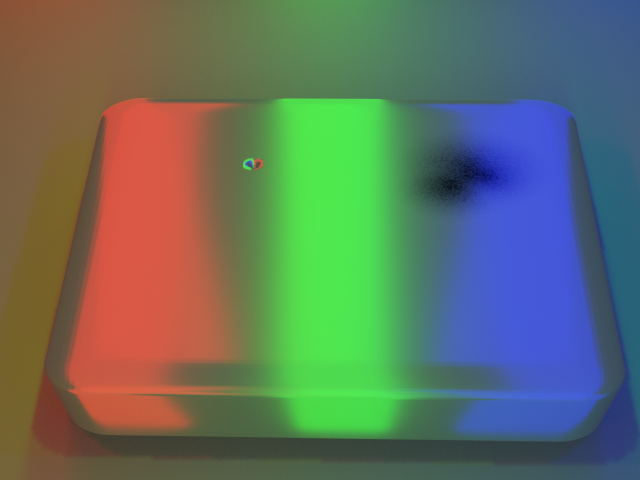dent: (226, 140, 268, 180)
stain: (357, 111, 594, 238)
